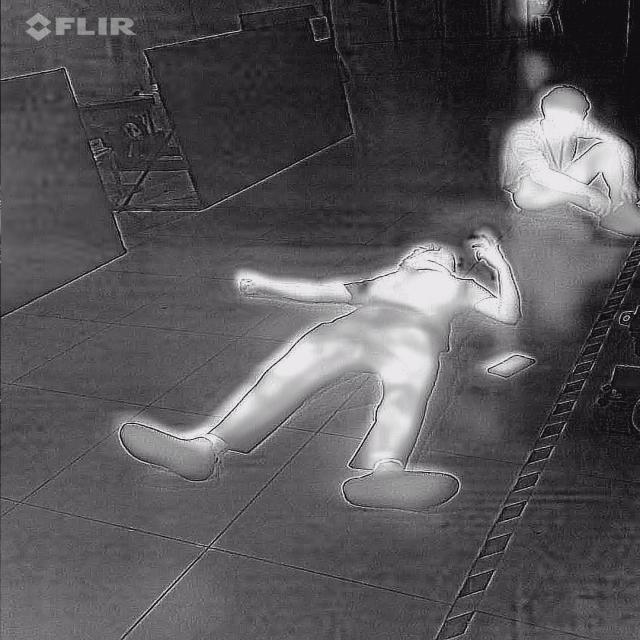Victim: (106, 220, 534, 517), (501, 78, 638, 242)
